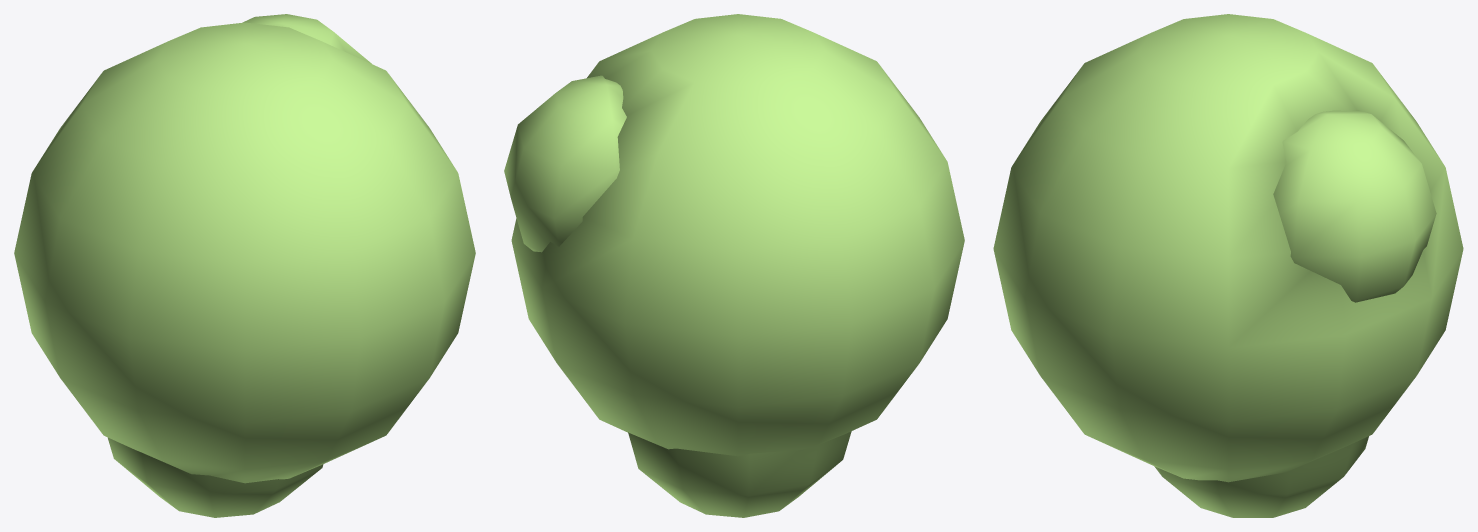
Rendered from StickyBombBlob.fbx.
3 renders of one model, left to right at view 1: azimuth 30°, elevation 25°; view 2: azimuth 150°, elevation 25°; view 3: azimuth 270°, elevation 25°, orthographic. The views are drawn at different scales.
Visible parts, largest first — view 1: sticky_blob; view 2: sticky_blob; view 3: sticky_blob.
Boxes of the visible parts, <box> form: sticky_blob: <box>14,14,475,517</box>; sticky_blob: <box>504,14,964,517</box>; sticky_blob: <box>993,14,1463,517</box>.
Size of the model in its own units: 0.18 by 0.2017 by 0.18.
